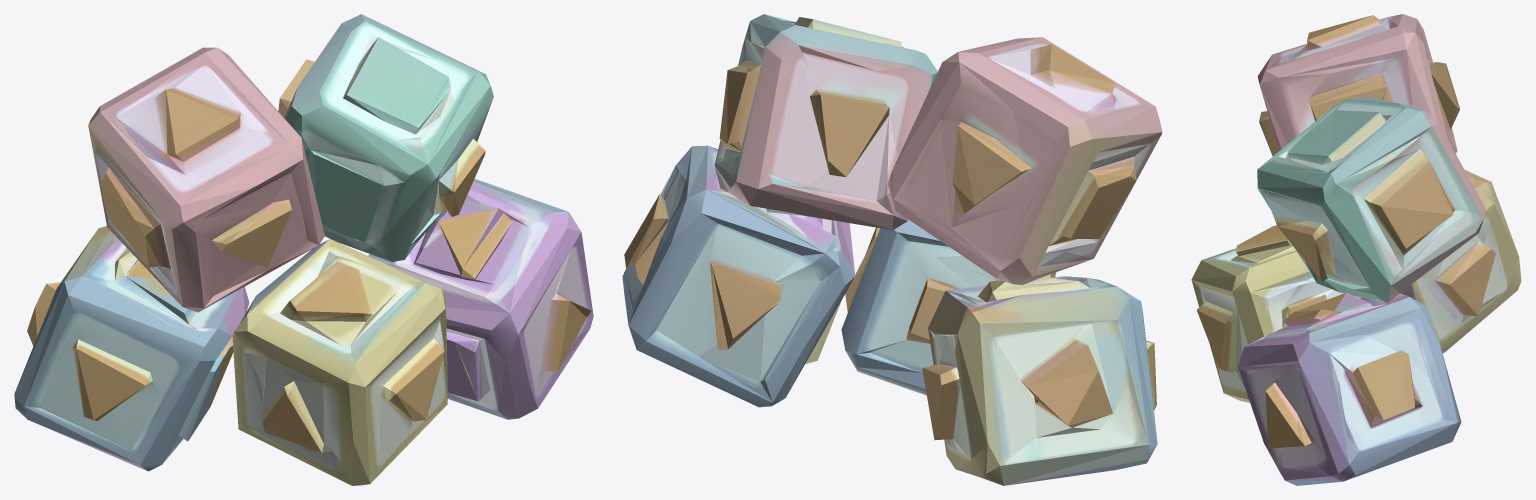
Rendered from toy-cubes.glb.
3 renders of one model, left to right at view 1: azimuth 30°, elevation 25°; view 2: azimuth 150°, elevation 25°; view 3: azimuth 270°, elevation 25°, orthographic. The views are drawn at different scales.
Bounding box in the file's own units: 1.9 × 1.32 × 1.14.
Materials: 1 (1 with a texture image).
